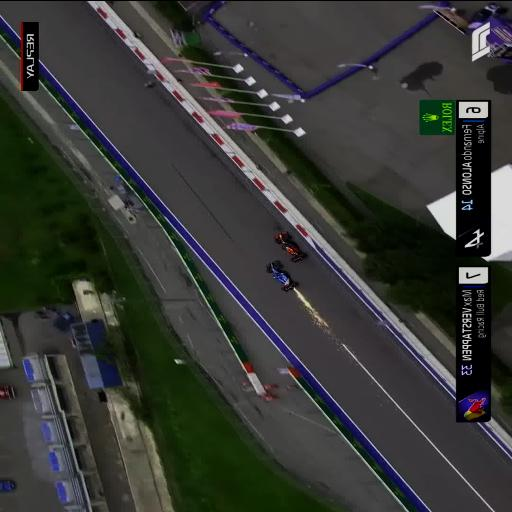f1_car: (274, 230, 306, 261), (266, 259, 298, 290)
